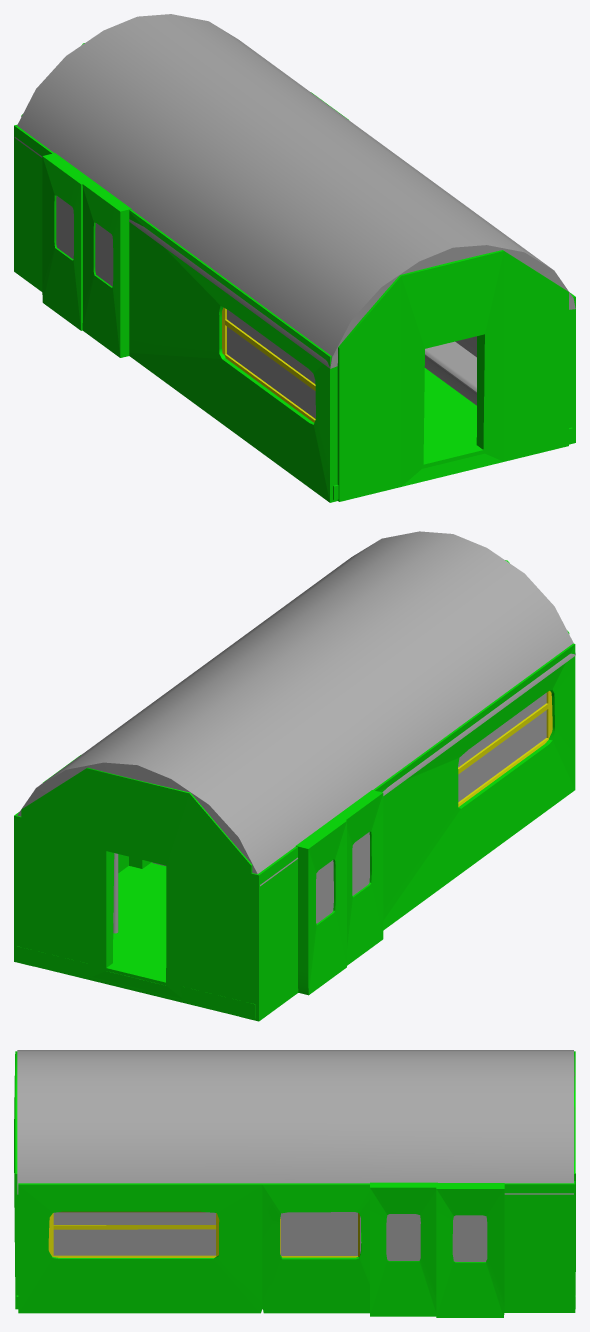
File: MOD_Coupe_UV_v9.fbx
3 renders of one model, top to bottom at view 1: azimuth 30°, elevation 25°; view 2: azimuth 150°, elevation 25°; view 3: azimuth 270°, elevation 25°, orthographic. The views are drawn at different scales.
Parts seen in each view (by area): view 1: Muren, Dak, Zijramen, Bankjes, Ramen; view 2: Muren, Dak, Zijramen, Ramen; view 3: Dak, Muren, Zijramen, Ramen.
Boxes of the visible parts, x1,y1,x2,y2 form: Muren: (14, 43, 575, 502); Dak: (14, 14, 575, 368); Zijramen: (56, 196, 315, 418); Bankjes: (424, 336, 476, 405); Ramen: (222, 307, 315, 422); Muren: (14, 560, 575, 1021); Dak: (17, 531, 575, 886); Zijramen: (316, 693, 546, 923); Ramen: (458, 691, 552, 806); Dak: (17, 1050, 574, 1194); Muren: (14, 1051, 575, 1317); Zijramen: (53, 1212, 487, 1261); Ramen: (48, 1211, 359, 1257).
Bounding box in the file's own units: 618 × 499 × 1278.
